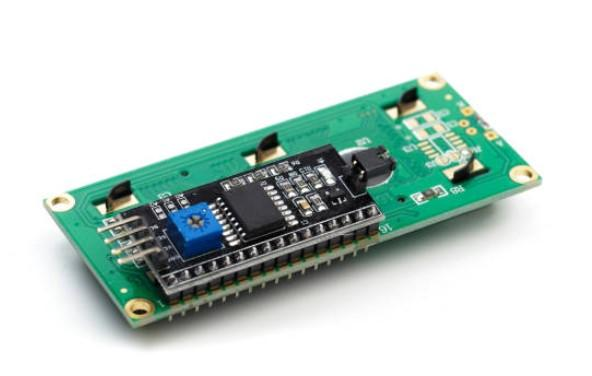Printed Circuit Board PCB: (41, 73, 544, 330)
